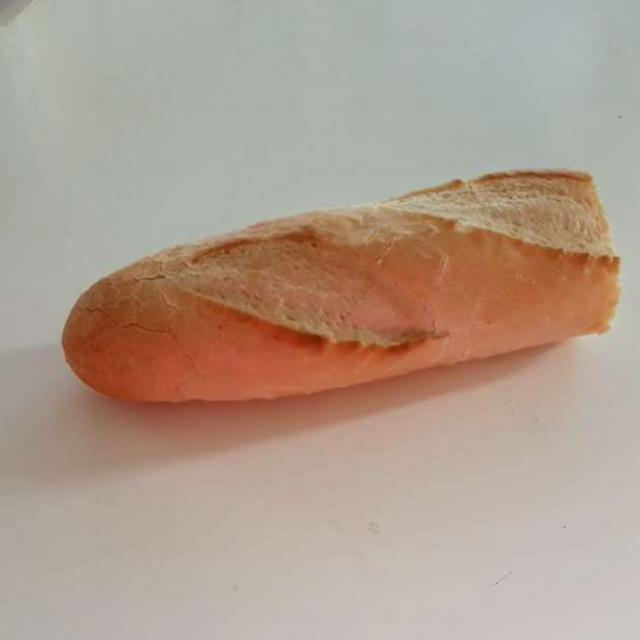bread: (65, 167, 615, 403)
